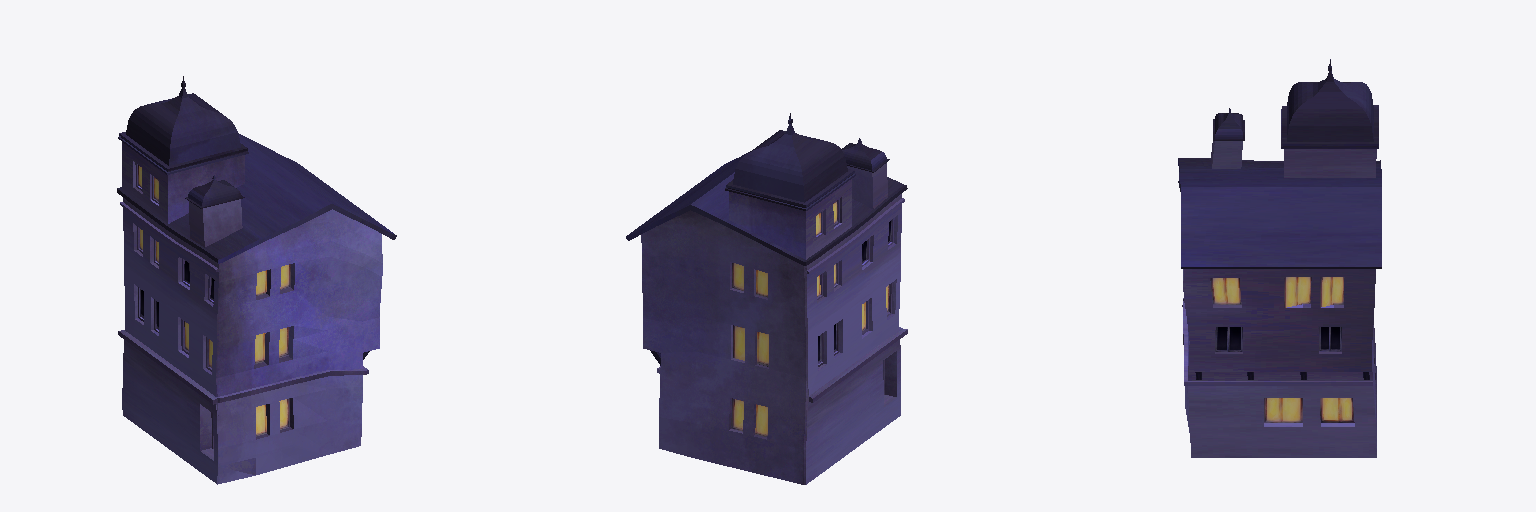
3 views of the same model, side by side, from view 1: azimuth 30°, elevation 25°; view 2: azimuth 150°, elevation 25°; view 3: azimuth 270°, elevation 25° (orthographic).
Visible parts, largest first — view 1: H1; view 2: H1; view 3: H1.
Part boxes in pixels (left/top/right/bottom): H1: left=117, top=76, right=396, bottom=484; H1: left=626, top=113, right=907, bottom=484; H1: left=1178, top=59, right=1381, bottom=457.
Bounding box in the file's own units: 21.42 × 38.7 × 20.64.
3 materials, 3 textured.